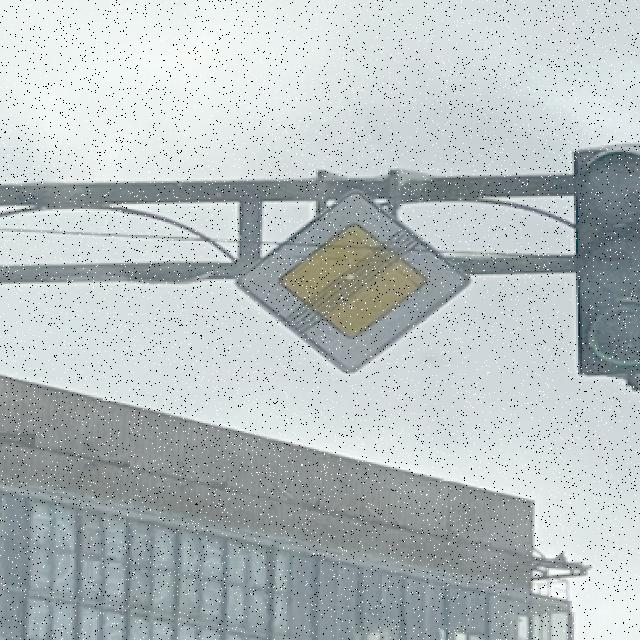конец главной дороги: (231, 186, 471, 377)
